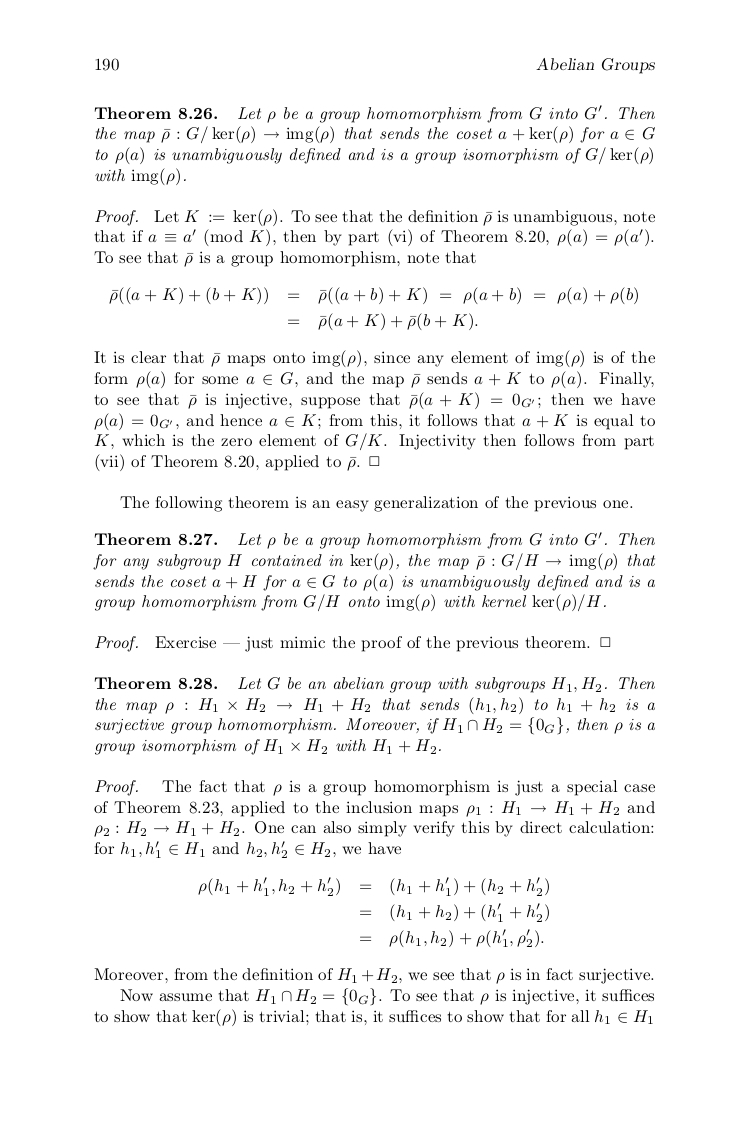formula: (109, 286, 637, 305), (198, 876, 548, 896), (360, 902, 548, 922), (360, 928, 543, 948), (288, 312, 477, 331)
